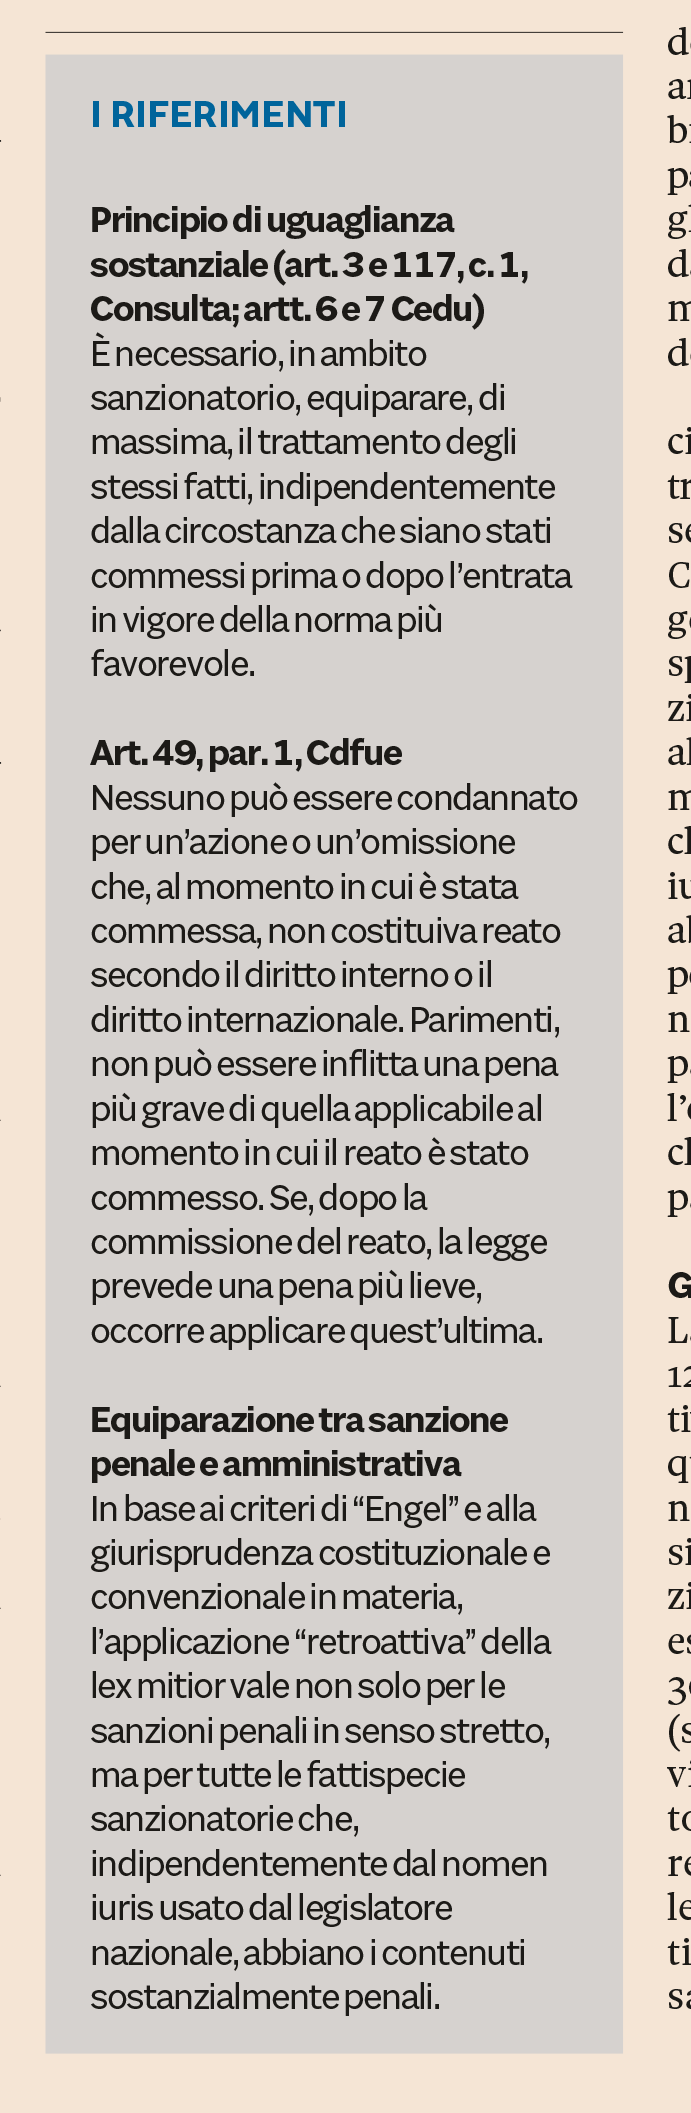scheda-testo-2: (61, 1358, 607, 2044), (61, 703, 609, 1381), (62, 160, 607, 718)
